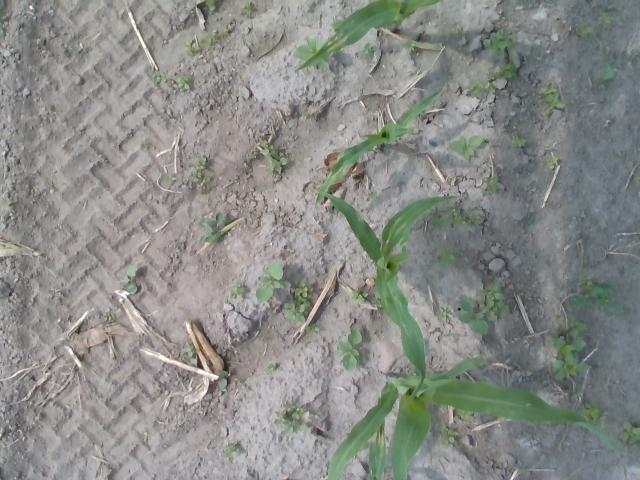Maize: (323, 353, 625, 480), (314, 182, 461, 407), (317, 84, 444, 200), (295, 0, 439, 72)
Weeds: (547, 314, 593, 380), (458, 284, 511, 336), (570, 275, 621, 316), (256, 262, 291, 302), (427, 205, 484, 229), (292, 36, 331, 70), (334, 329, 366, 370), (249, 140, 287, 174), (285, 283, 313, 324), (276, 401, 307, 434), (188, 156, 214, 194), (448, 134, 483, 162), (485, 28, 515, 59), (582, 399, 608, 431), (199, 212, 225, 243), (540, 82, 564, 114), (618, 421, 640, 451), (434, 246, 462, 267), (468, 80, 496, 100), (485, 63, 516, 80), (597, 66, 618, 90), (123, 265, 140, 294), (200, 30, 228, 47), (439, 426, 458, 448), (566, 382, 586, 398), (174, 74, 194, 90), (182, 342, 196, 364), (148, 66, 166, 83), (229, 284, 248, 300), (574, 23, 594, 38), (484, 177, 500, 195), (597, 12, 615, 28), (216, 370, 230, 390), (437, 306, 454, 322), (349, 290, 368, 304), (360, 42, 374, 60), (223, 442, 240, 456), (511, 134, 526, 147), (102, 307, 114, 323), (185, 40, 198, 54), (240, 1, 253, 15), (305, 322, 320, 334), (368, 298, 382, 310), (404, 38, 416, 50), (164, 174, 176, 186), (204, 0, 217, 11), (366, 191, 380, 201), (331, 20, 346, 29), (549, 156, 559, 169), (266, 361, 277, 372), (452, 24, 462, 34), (4, 198, 16, 206), (633, 174, 640, 186), (631, 49, 640, 58), (512, 86, 520, 94), (528, 216, 538, 222), (304, 113, 310, 122), (582, 256, 588, 262), (636, 236, 640, 243)
